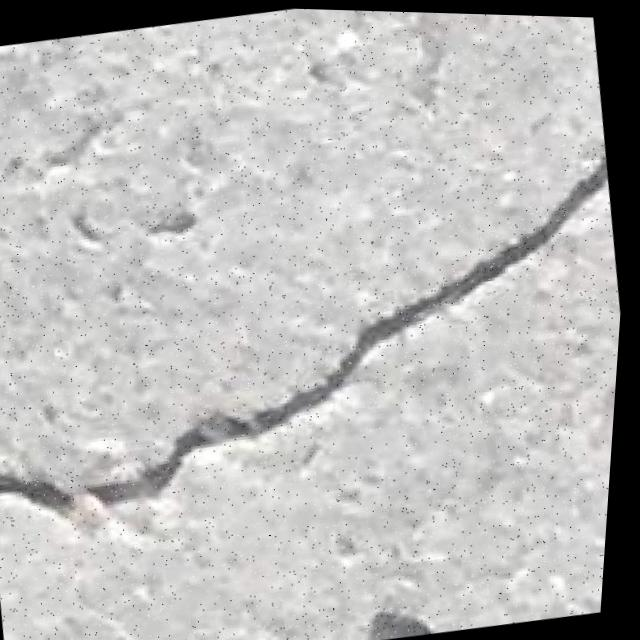Crack: (0, 122, 634, 551)
